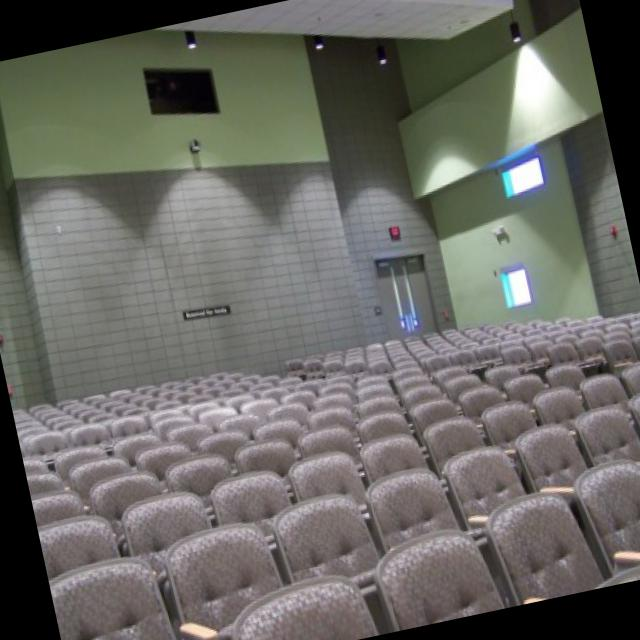2001: (499, 153, 542, 197), (498, 263, 531, 306)
ceiling beam: (156, 0, 510, 42)
door bars: (370, 250, 439, 343)
light fixture: (182, 28, 194, 46)
seats crop: (12, 312, 640, 640)
wall clock: (0, 0, 455, 427), (387, 0, 640, 324)
